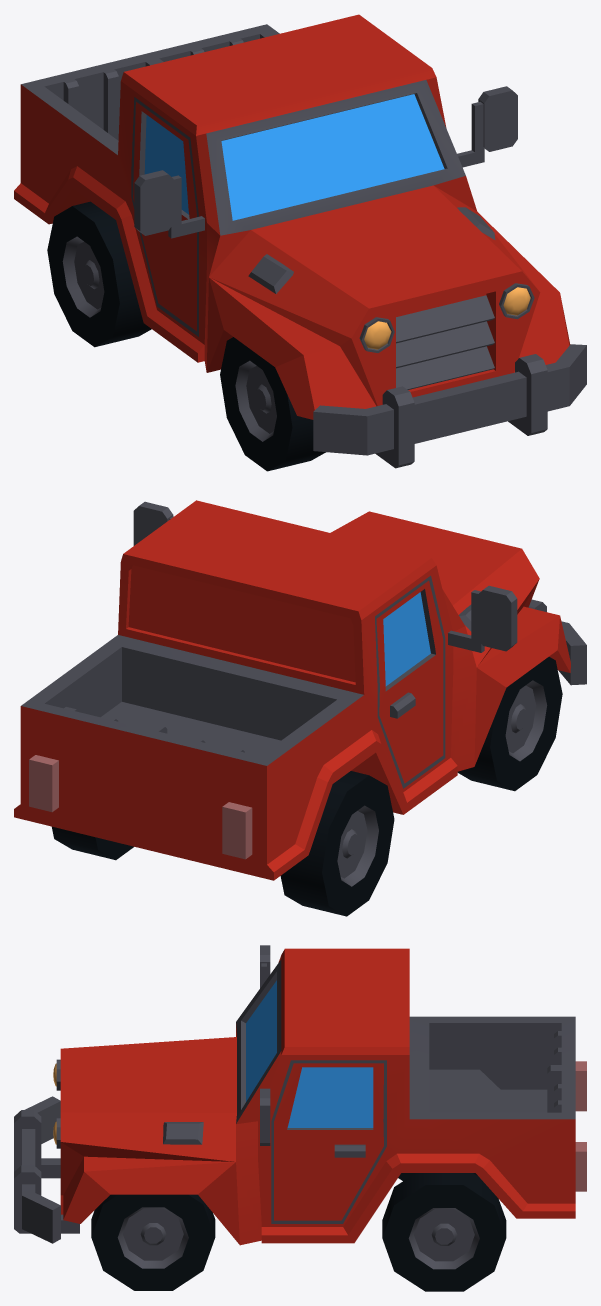
Rendered from Jeep_6.fbx.
The picture shows the model from 3 angles, top to bottom: view 1: azimuth 30°, elevation 25°; view 2: azimuth 150°, elevation 25°; view 3: azimuth 270°, elevation 25°; orthographic projection. The views are drawn at different scales.
Parts seen in each view (by area): view 1: Jeep_6; view 2: Jeep_6; view 3: Jeep_6.
Part boxes in pixels (x1,y1,x2,y2): Jeep_6: [14, 14, 586, 471]; Jeep_6: [14, 500, 586, 916]; Jeep_6: [14, 945, 586, 1291].
Size of the model in its own units: 92.04 by 64.59 by 142.
